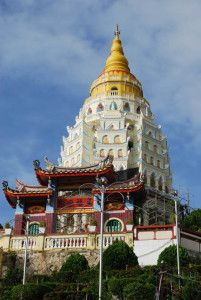Buddhist Temple: (45, 23, 172, 244)
